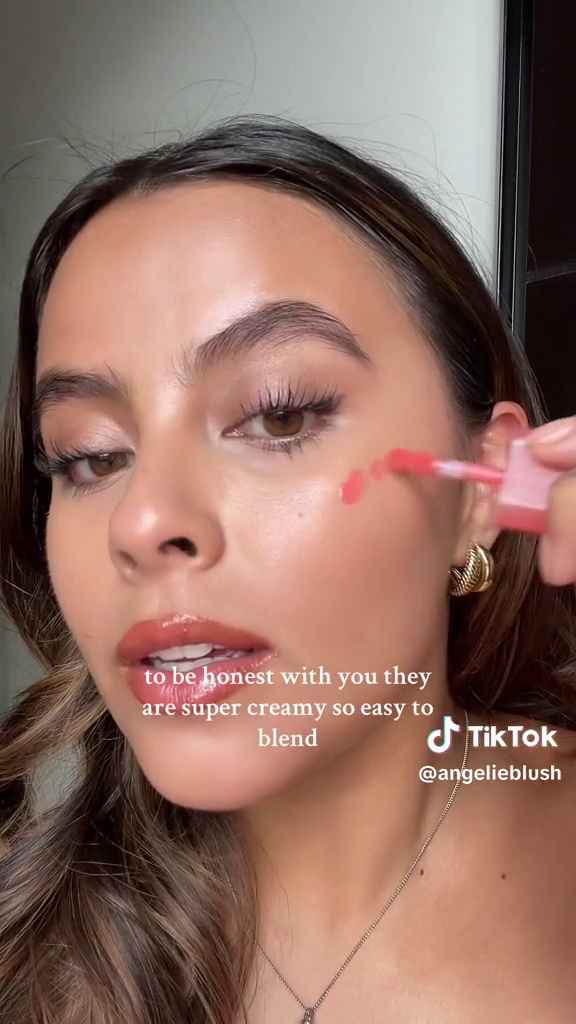train' :'yolo_data/train/images',: (357, 422, 575, 546)
